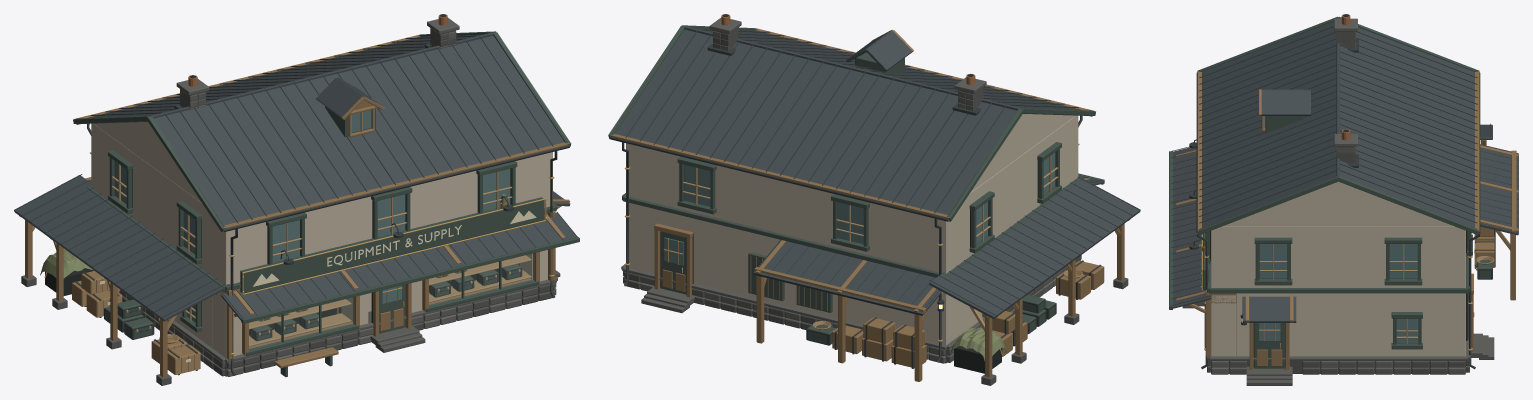
Rendered from SM_GrahamShop_Blockout.fbx.
3 renders of one model, left to right at view 1: azimuth 30°, elevation 25°; view 2: azimuth 150°, elevation 25°; view 3: azimuth 270°, elevation 25°, orthographic. The views are drawn at different scales.
Parts seen in each view (by area): view 1: SM_GrahamShop_Blockout; view 2: SM_GrahamShop_Blockout; view 3: SM_GrahamShop_Blockout.
Boxes of the visible parts, left/top/right/bottom form: SM_GrahamShop_Blockout: left=14, top=14, right=579, bottom=385; SM_GrahamShop_Blockout: left=608, top=14, right=1140, bottom=385; SM_GrahamShop_Blockout: left=1169, top=14, right=1518, bottom=385.
Bounding box in the file's own units: 1823 × 1371 × 975.
